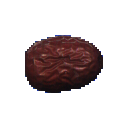gd: (20, 16, 111, 103)
